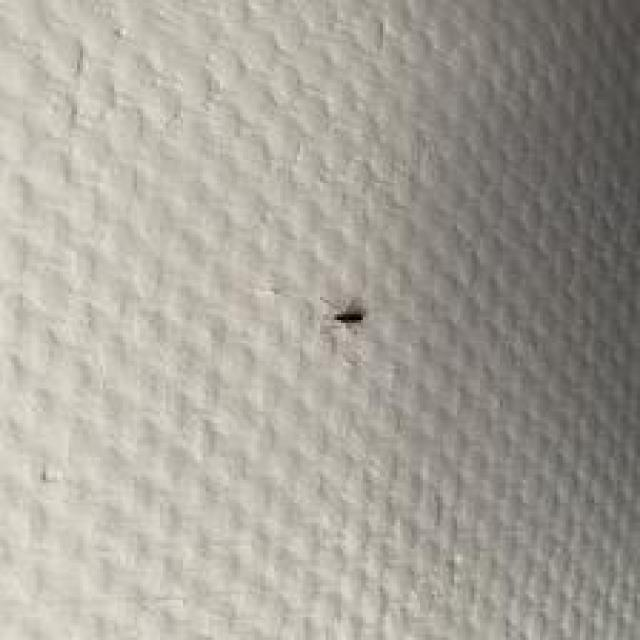Culex: (333, 297, 367, 326)
